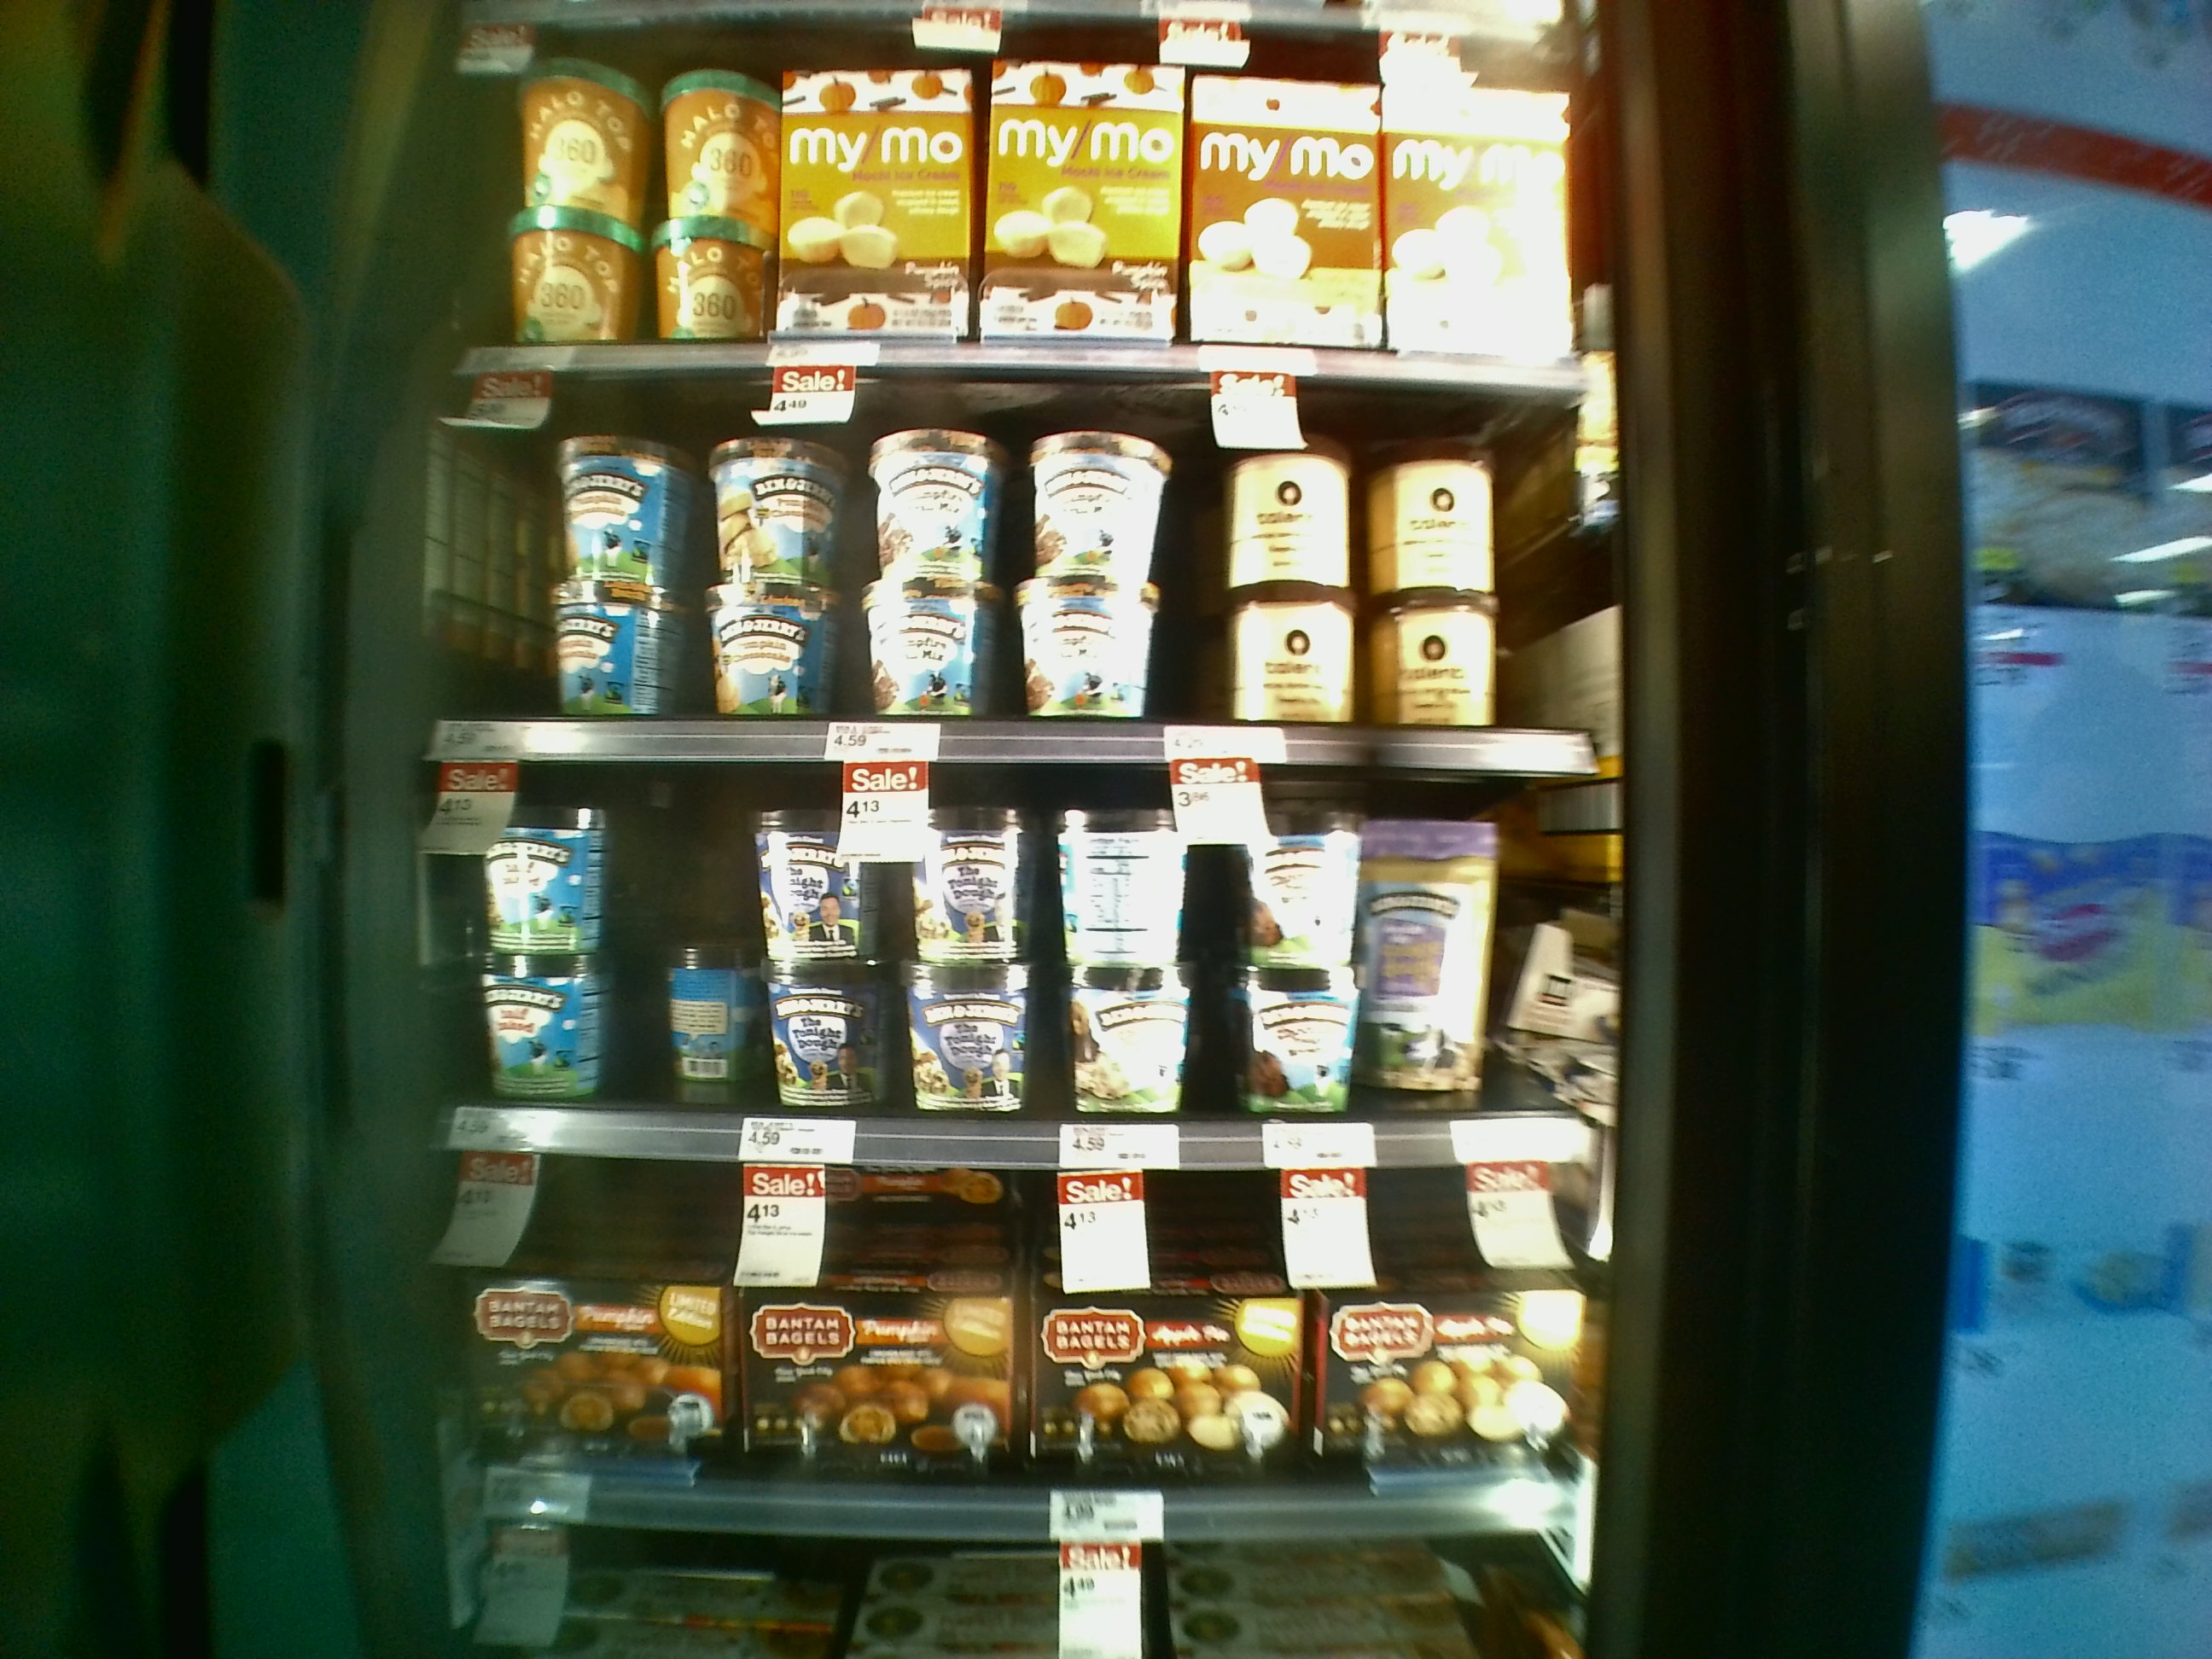shelf: (404, 746, 1635, 1171), (418, 359, 1608, 779), (399, 1121, 1604, 1527)
